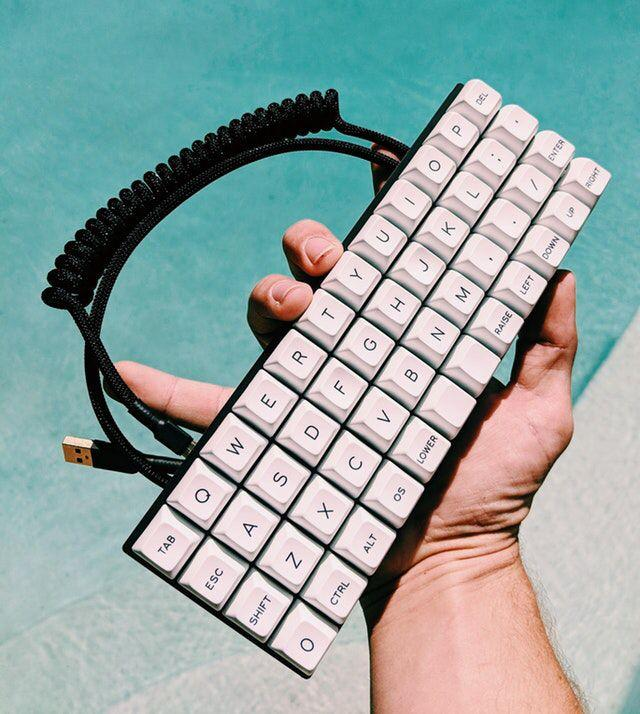keyboard: (120, 77, 611, 679)
